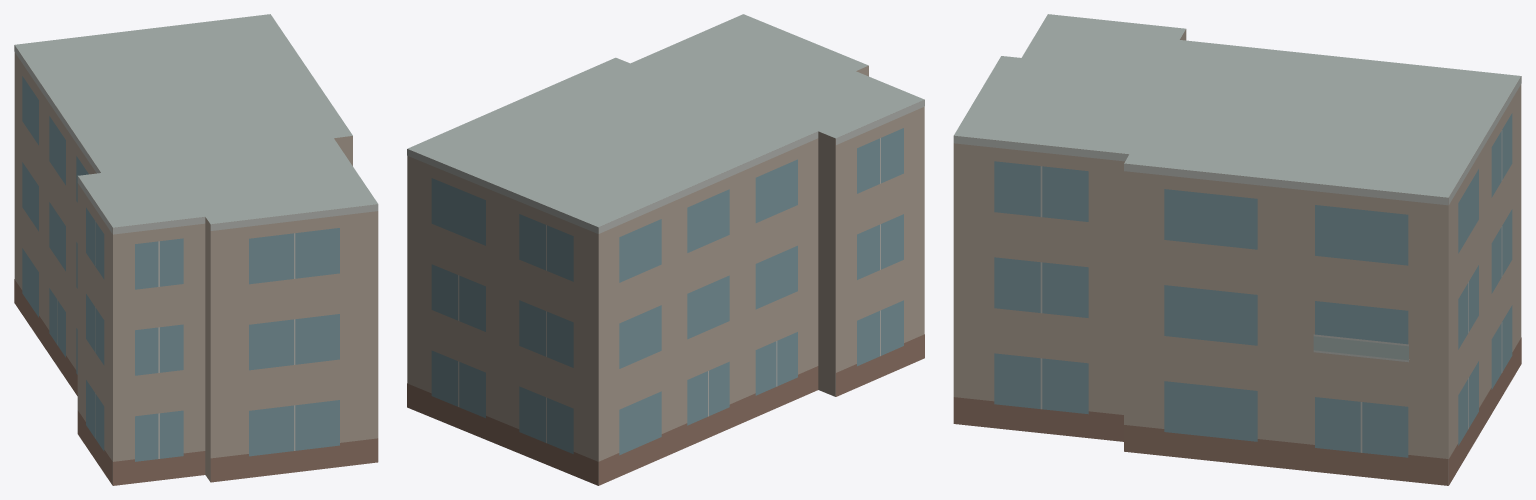
File: survey-upis-32806380.glb
The picture shows the model from 3 angles, left to right: view 1: azimuth 30°, elevation 25°; view 2: azimuth 150°, elevation 25°; view 3: azimuth 270°, elevation 25°; orthographic projection. The views are drawn at different scales.
Parts seen in each view (by area): view 1: survey-upis-32806380.tmp; view 2: survey-upis-32806380.tmp; view 3: survey-upis-32806380.tmp.
Part boxes in pixels (bbox=[...]): survey-upis-32806380.tmp: bbox=[14, 14, 378, 485]; survey-upis-32806380.tmp: bbox=[407, 14, 924, 485]; survey-upis-32806380.tmp: bbox=[953, 14, 1521, 485].
Size of the model in its own units: 12.52 by 9.15 by 16.35.
